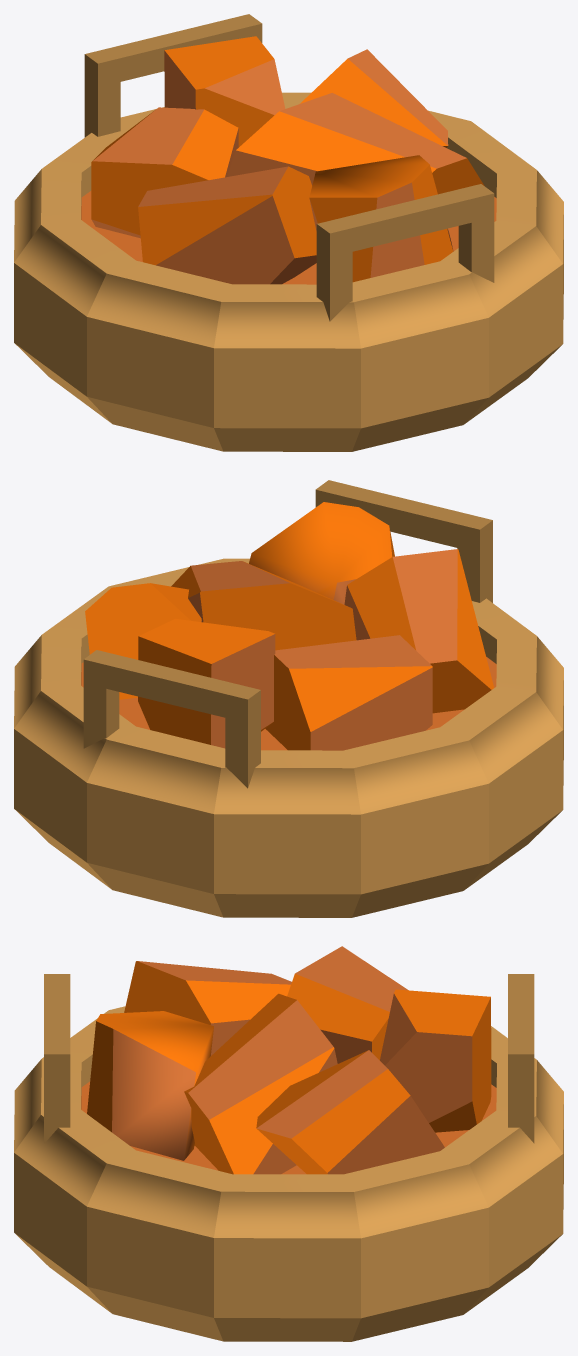
Rendered from iron_ore_basket_low.fbx.
The picture shows the model from 3 angles, top to bottom: view 1: azimuth 30°, elevation 25°; view 2: azimuth 150°, elevation 25°; view 3: azimuth 270°, elevation 25°; orthographic projection.
Visible parts, largest first — view 1: iron_ore.001; view 2: iron_ore.001; view 3: iron_ore.001.
Boxes of the visible parts, <box> form: iron_ore.001: <box>14,14,563,451</box>; iron_ore.001: <box>14,480,563,917</box>; iron_ore.001: <box>14,946,563,1341</box>.
Bounding box in the file's own units: 201 × 96.33 × 201.
